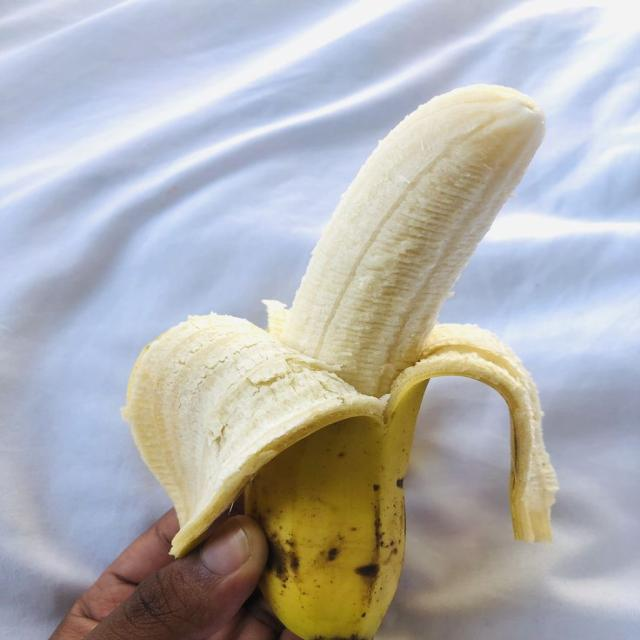banana: (125, 86, 556, 639)
